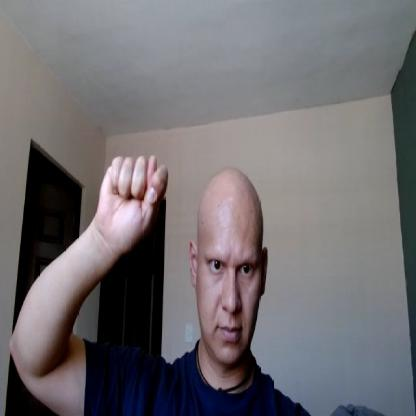T: (94, 150, 172, 250)
